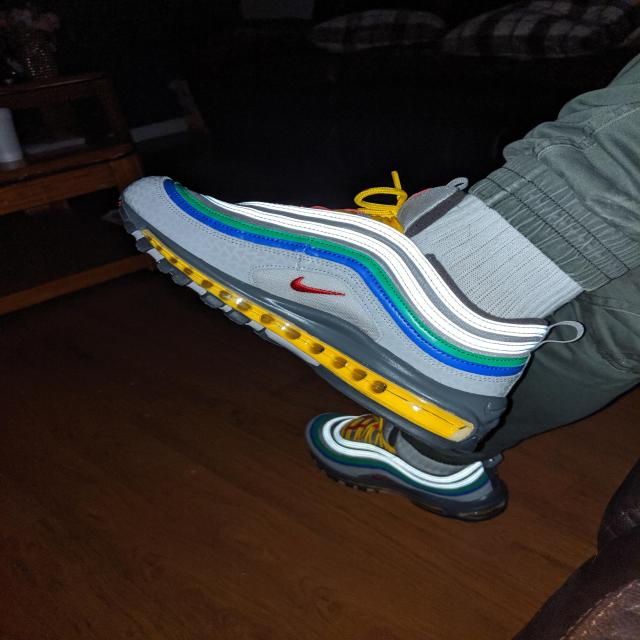shoes: (100, 172, 558, 455), (304, 414, 519, 520)
